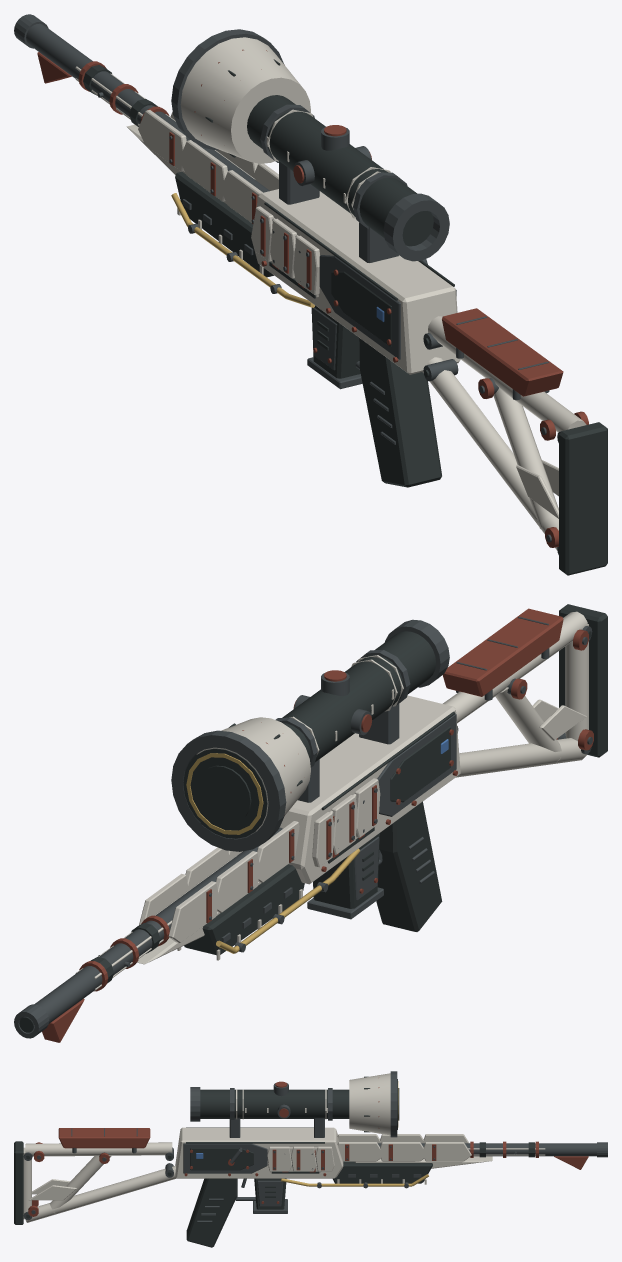
The model's file is sniper_2.glb.
3 views of the same model, one above another, from view 1: azimuth 30°, elevation 25°; view 2: azimuth 150°, elevation 25°; view 3: azimuth 270°, elevation 25° (orthographic). The views are drawn at different scales.
Parts seen in each view (by area): view 1: Weapon_sniper_v1; view 2: Weapon_sniper_v1; view 3: Weapon_sniper_v1.
Boxes of the visible parts, x1,y1,x2,y2 form: Weapon_sniper_v1: (14, 14, 607, 575); Weapon_sniper_v1: (14, 604, 607, 1042); Weapon_sniper_v1: (14, 1071, 607, 1247).
Bounding box in the file's own units: 0.122 × 0.3431 × 1.09.
